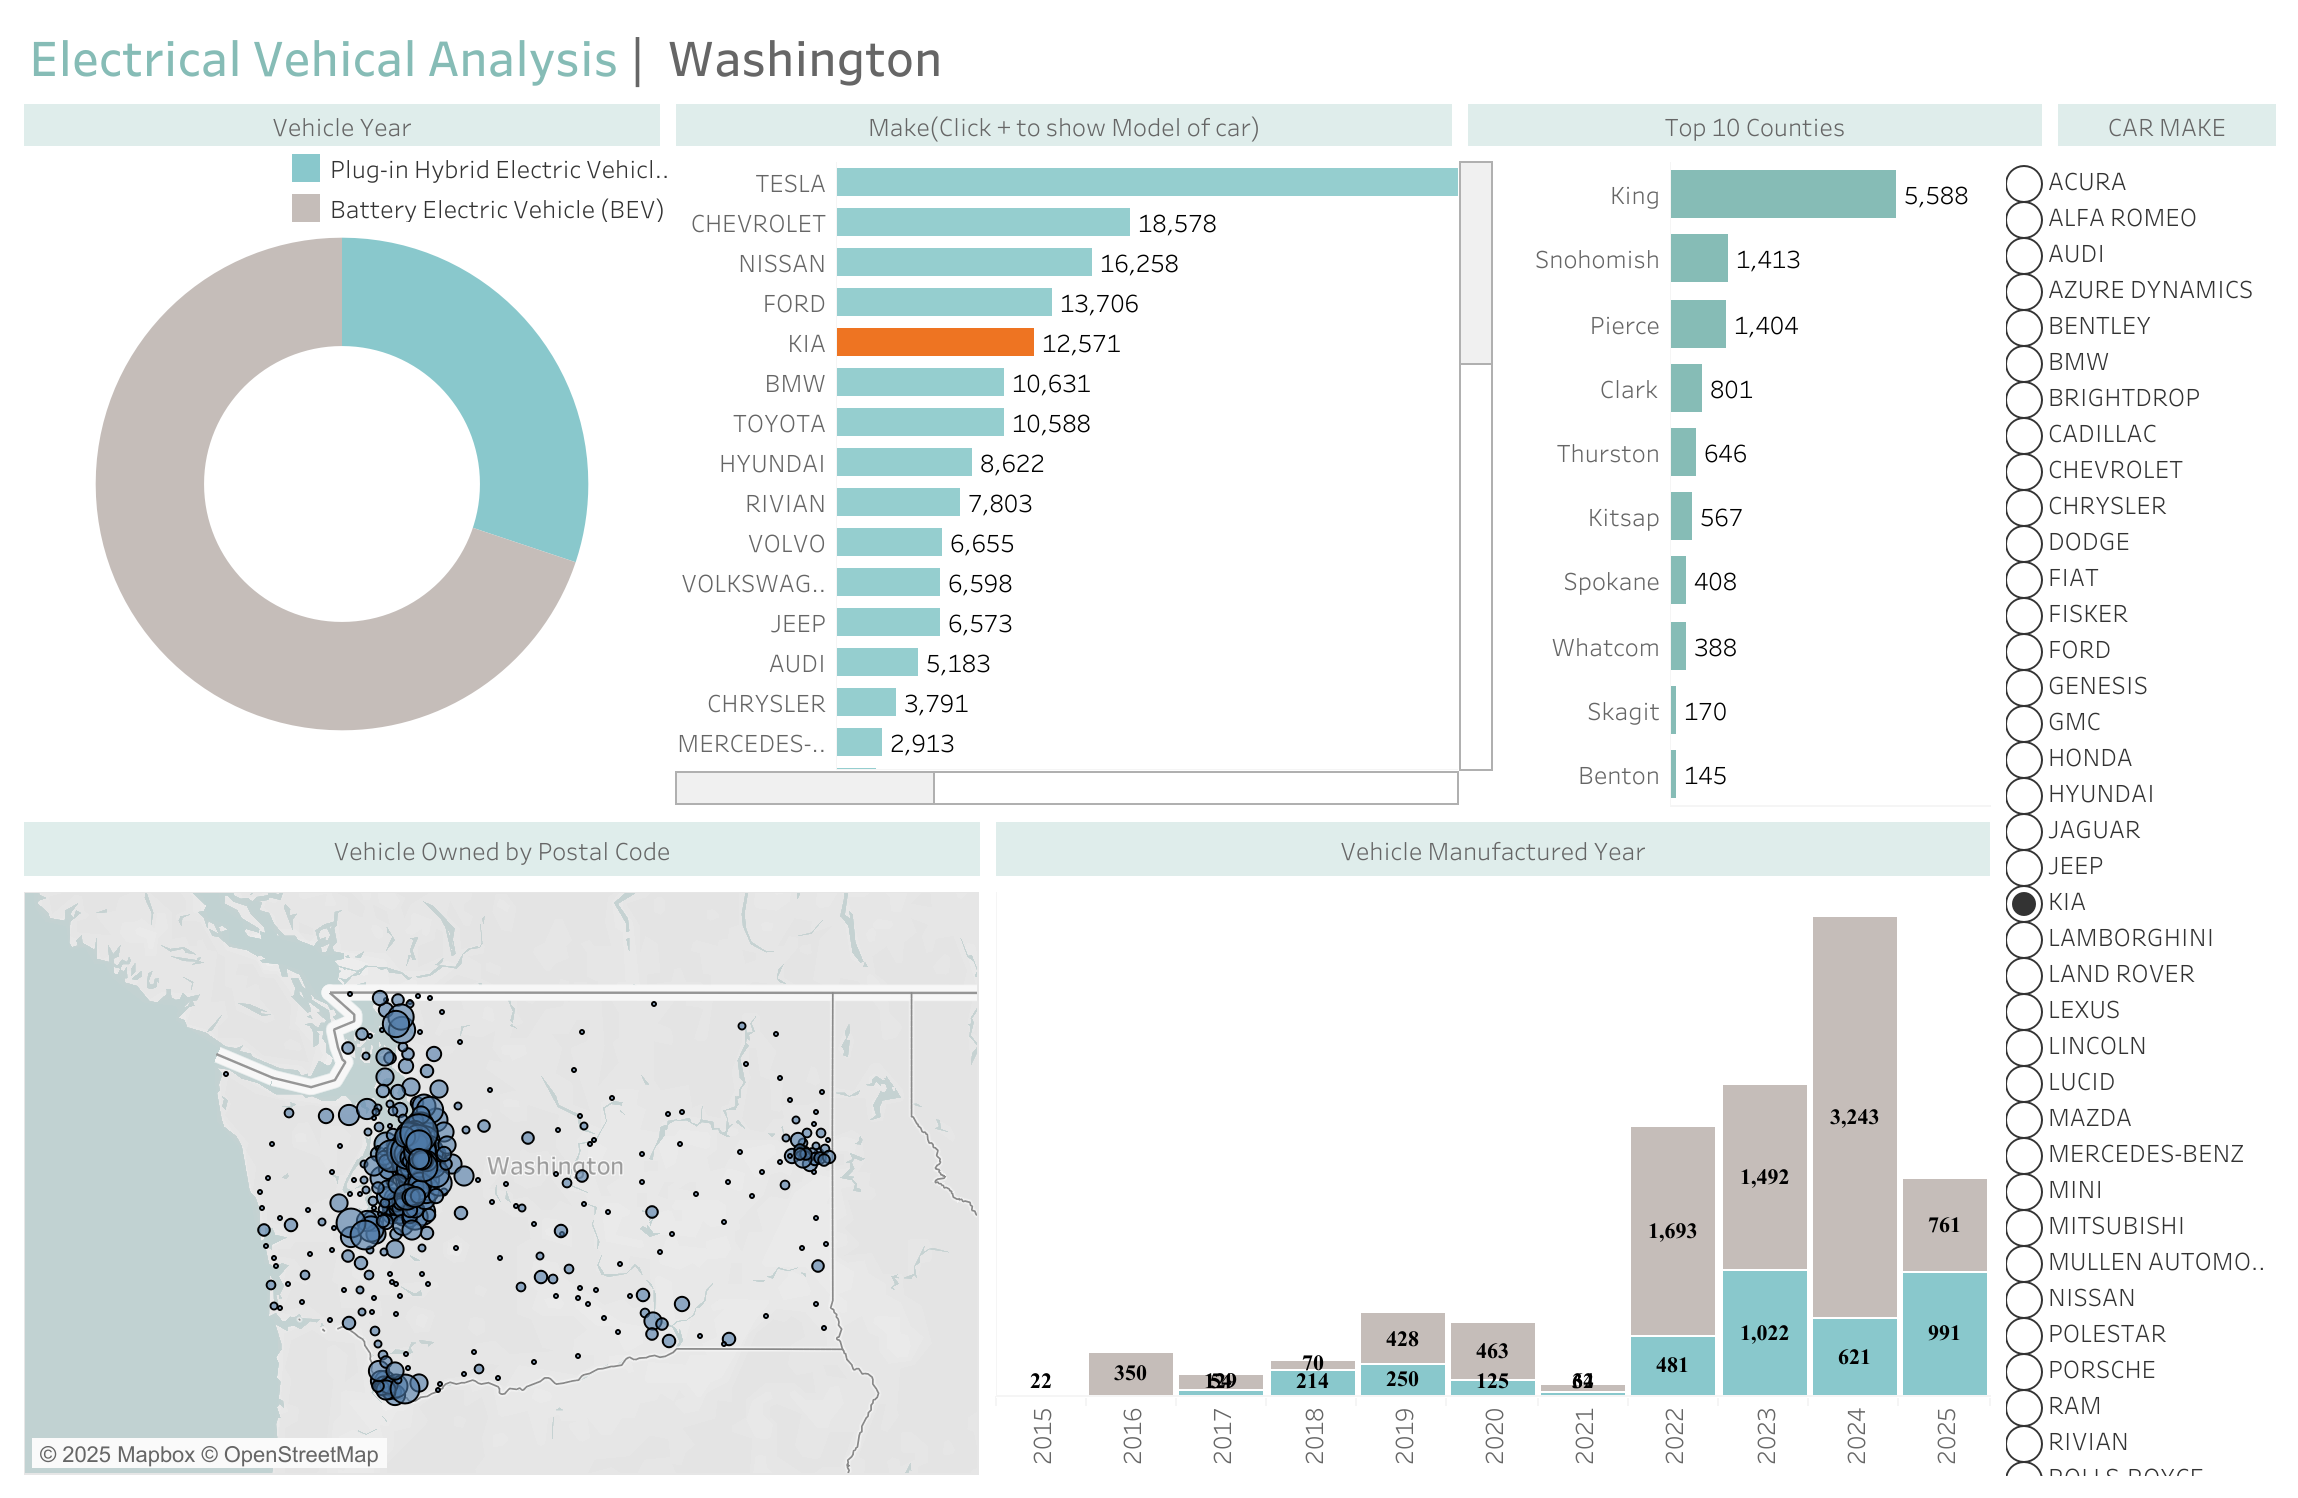

This screenshot's page, from the dashboard's own definition file:
{"tool":"tableau","page":{"name":"Dashboard 1","canvas":[1150,750],"ordinal":0},"visuals":[{"type":"text","box":[8,8,1134,39.6]},{"type":"text","box":[8,47.6,326,29.5]},{"type":"text","box":[334,47.6,396,29.5]},{"type":"text","box":[730,47.6,295.5,29.5]},{"type":"text","box":[1025.5,47.6,116.5,29.5]},{"type":"legend","title":"Vehicle Type Donut","param":"[federated.04cdtru1mv9aov18951vq0yfb71g].[none:Electric Vehicle Type:nk]","box":[143,73.9,198,37.5]},{"type":"worksheet","title":"Vehicle Type Donut","mark":"Pie","rows":["Calculation_1258826515621203971","Calculation_1258826515621203971"],"box":[8,77,326.2,330]},{"type":"worksheet","title":"Make and Model","mark":"Automatic","rows":["Make"],"cols":["DOL Vehicle ID"],"box":[334.2,77,417,330]},{"type":"worksheet","title":"Top 10 counties","mark":"Automatic","rows":["County"],"cols":["DOL Vehicle ID"],"box":[751.2,77,247.8,330]},{"type":"parameter","param":"[Parameters].[Parameter 1]","box":[999,77,143,664.9]},{"type":"text","box":[8,407,485.9,35.3]},{"type":"text","box":[493.9,407,505.1,35.3]},{"type":"worksheet","title":"Map","mark":"Automatic","box":[8,442.4,485.9,299.6]},{"type":"worksheet","title":"Year and Type","mark":"Bar","rows":["DOL Vehicle ID"],"cols":["Model Year"],"box":[493.9,442.4,505.1,299.6]}]}

Visuals, with their boxes in screenshot pixels (x1, y1, x2, y2), scaled from the page's 1150x750 canvas onto the 2298x1498 screenshot:
text: 16/16/2282/95
text: 16/95/667/154
text: 667/95/1459/154
text: 1459/95/2049/154
text: 2049/95/2282/154
"Vehicle Type Donut" legend: 286/148/681/223
"Vehicle Type Donut" worksheet (Pie marks): 16/154/668/813
"Make and Model" worksheet: 668/154/1501/813
"Top 10 counties" worksheet: 1501/154/1996/813
parameter: 1996/154/2282/1482
text: 16/813/987/883
text: 987/813/1996/883
"Map" worksheet: 16/884/987/1482
"Year and Type" worksheet (Bar marks): 987/884/1996/1482
